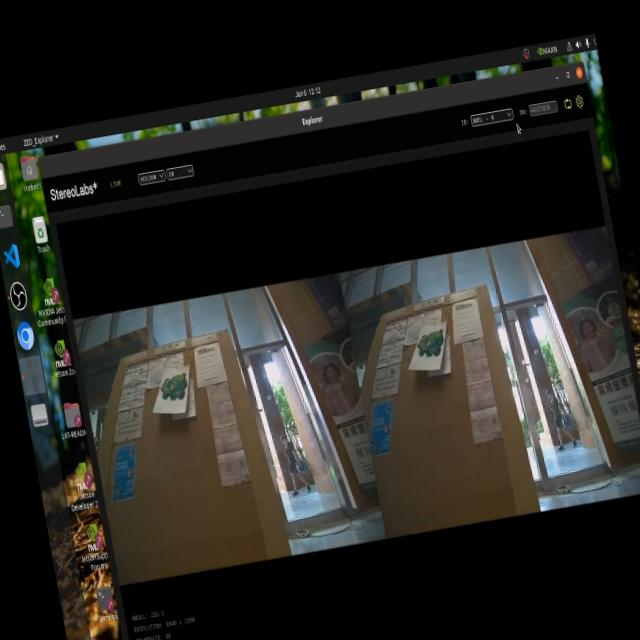green: (151, 368, 197, 410), (417, 314, 445, 364)
